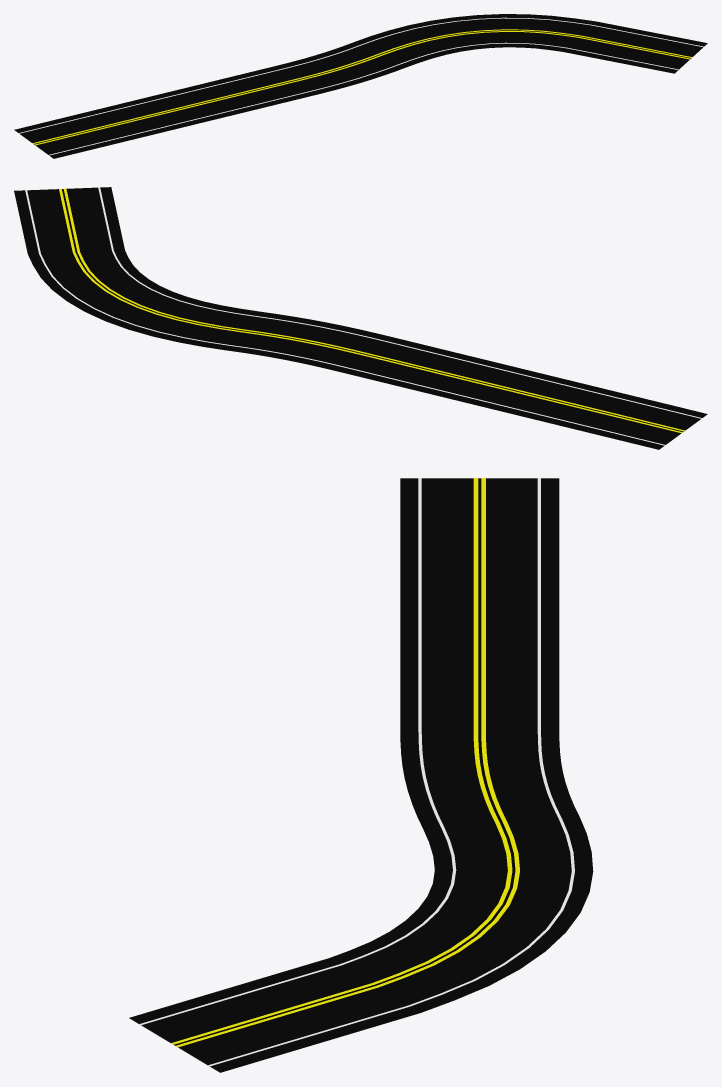
The model's file is Farm_Road.fbx.
3 renders of one model, top to bottom at view 1: azimuth 30°, elevation 25°; view 2: azimuth 150°, elevation 25°; view 3: azimuth 270°, elevation 25°, orthographic. The views are drawn at different scales.
Visible parts, largest first — view 1: SM_Road_01.mo; view 2: SM_Road_01.mo; view 3: SM_Road_01.mo.
Boxes of the visible parts, <box> form: SM_Road_01.mo: <box>14,14,707,158</box>; SM_Road_01.mo: <box>14,187,707,449</box>; SM_Road_01.mo: <box>129,478,593,1072</box>.
Bounding box in the file's own units: 5982 × 0.6003 × 1975.
